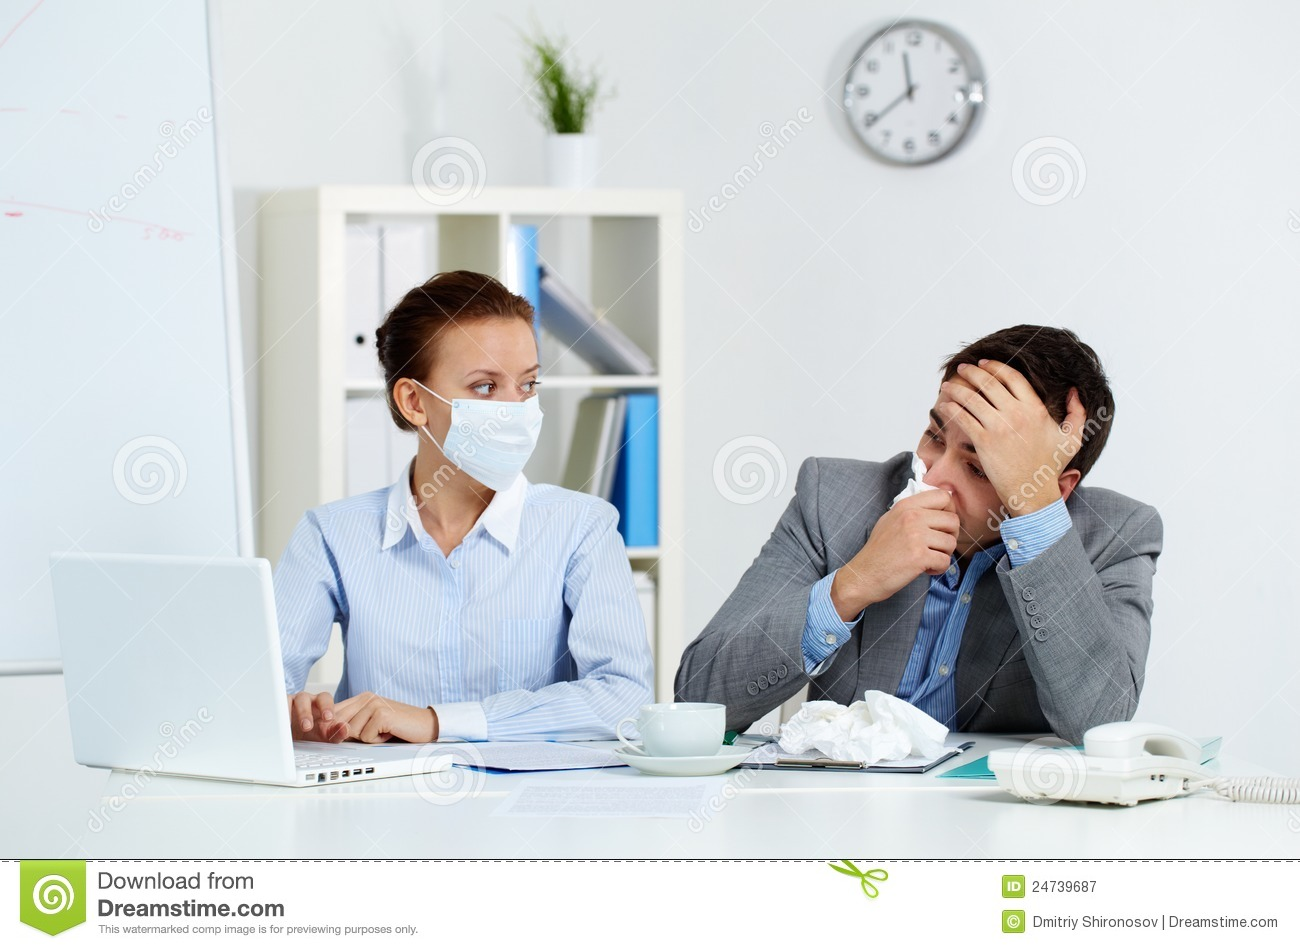mask: (449, 395, 544, 500)
